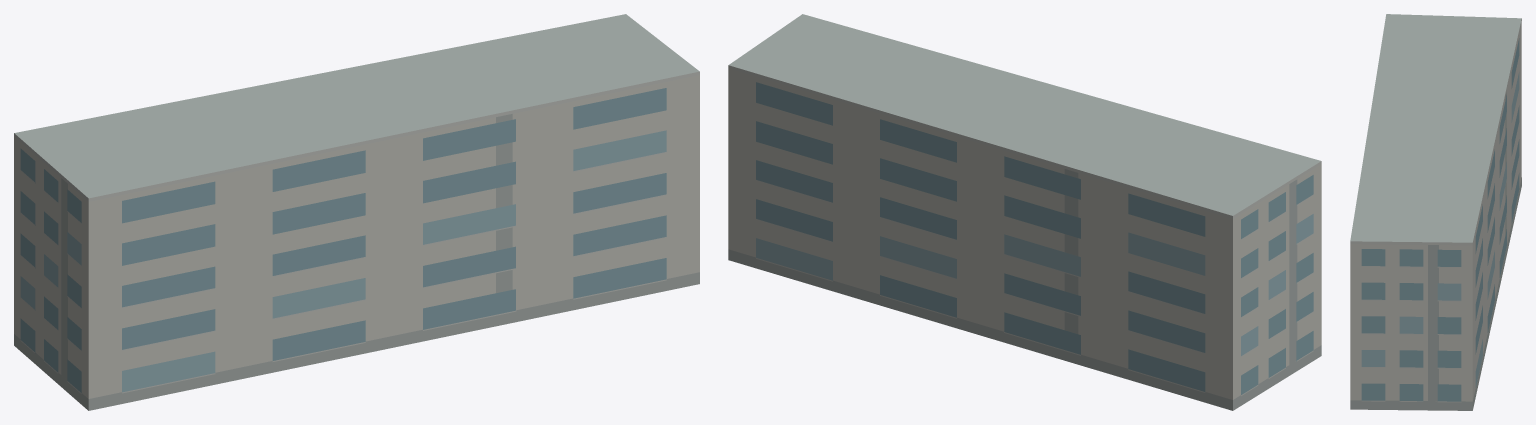
The model's file is residential-5764de8a-1523-4036-be8e-57028f44c332.glb.
The picture shows the model from 3 angles, left to right: view 1: azimuth 30°, elevation 25°; view 2: azimuth 150°, elevation 25°; view 3: azimuth 270°, elevation 25°; orthographic projection. The views are drawn at different scales.
Visible parts, largest first — view 1: residential-5764de8a-1523-4036-be8e-57028f44c332.tmp; view 2: residential-5764de8a-1523-4036-be8e-57028f44c332.tmp; view 3: residential-5764de8a-1523-4036-be8e-57028f44c332.tmp.
Boxes of the visible parts, x1,y1,x2,y2 form: residential-5764de8a-1523-4036-be8e-57028f44c332.tmp: (14,14,699,410); residential-5764de8a-1523-4036-be8e-57028f44c332.tmp: (728,14,1321,410); residential-5764de8a-1523-4036-be8e-57028f44c332.tmp: (1350,14,1521,410).
Size of the model in its own units: 44.47 by 15.25 by 14.11.
